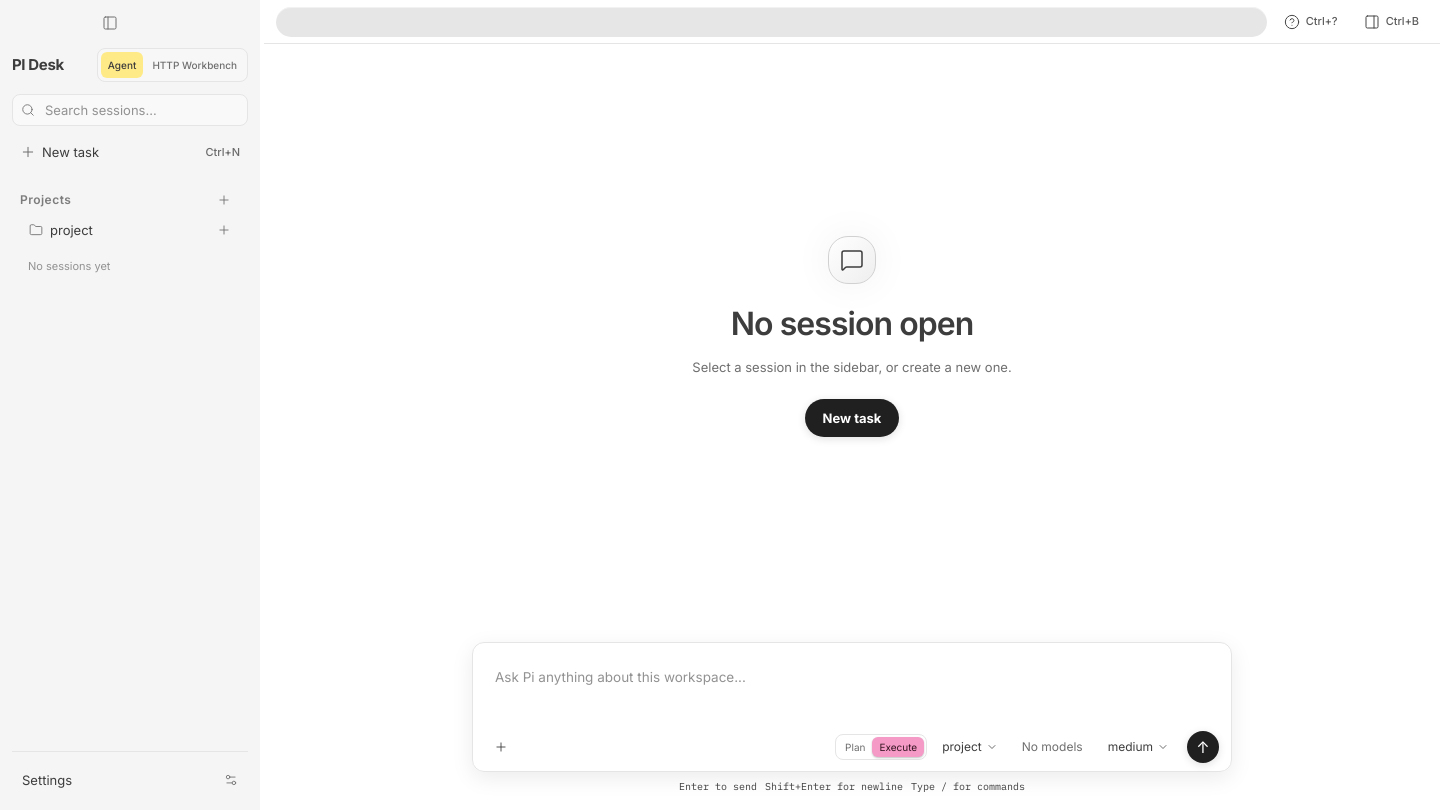
Scenario: Pi Desktop end-to-end send flow › sends a prompt when a project is active
Type "inspect the tests" into the text box named "message" at coordinates (852, 693), box 485,655 -> 1219,731
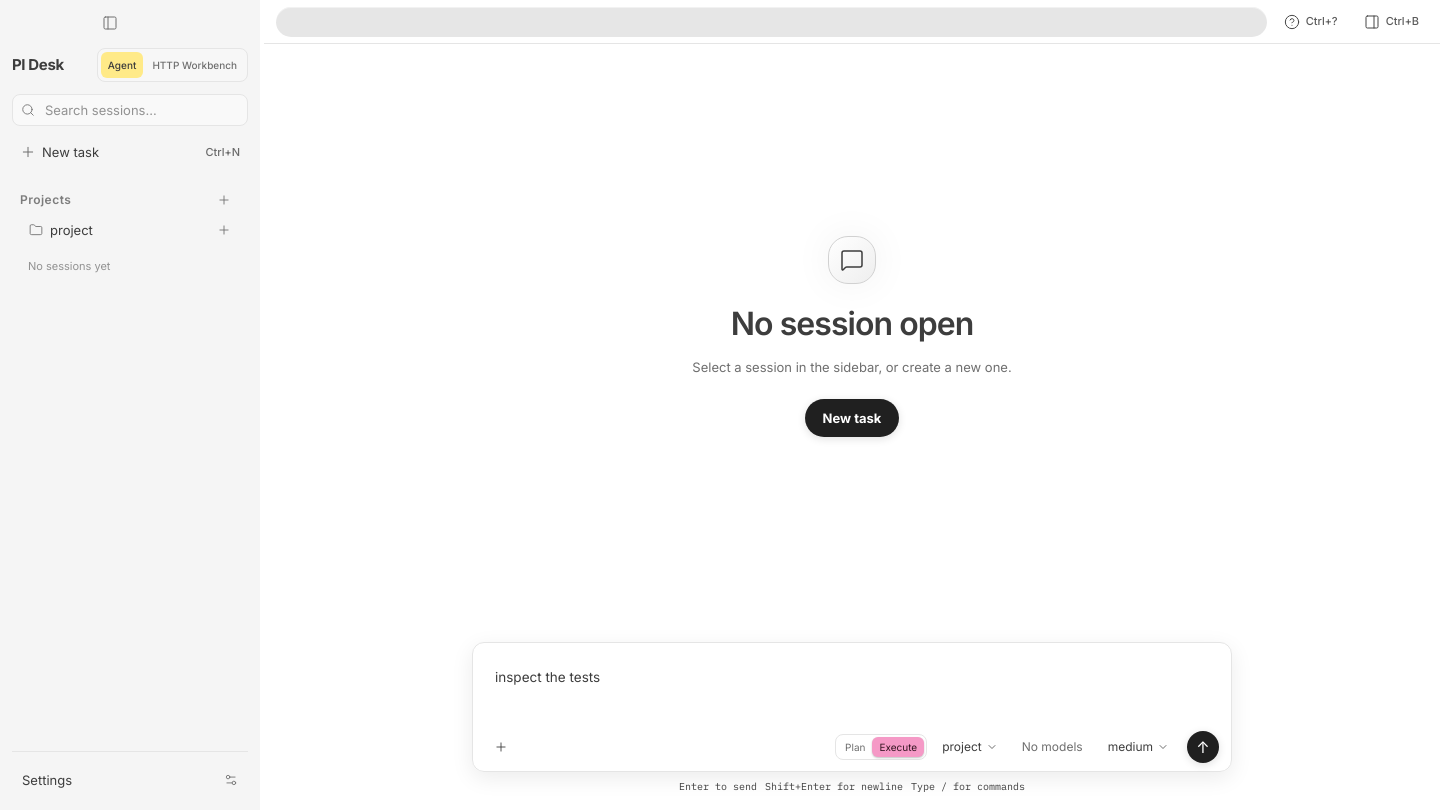
Click the button named "send" at coordinates (1203, 747), box 1187,731 -> 1219,763
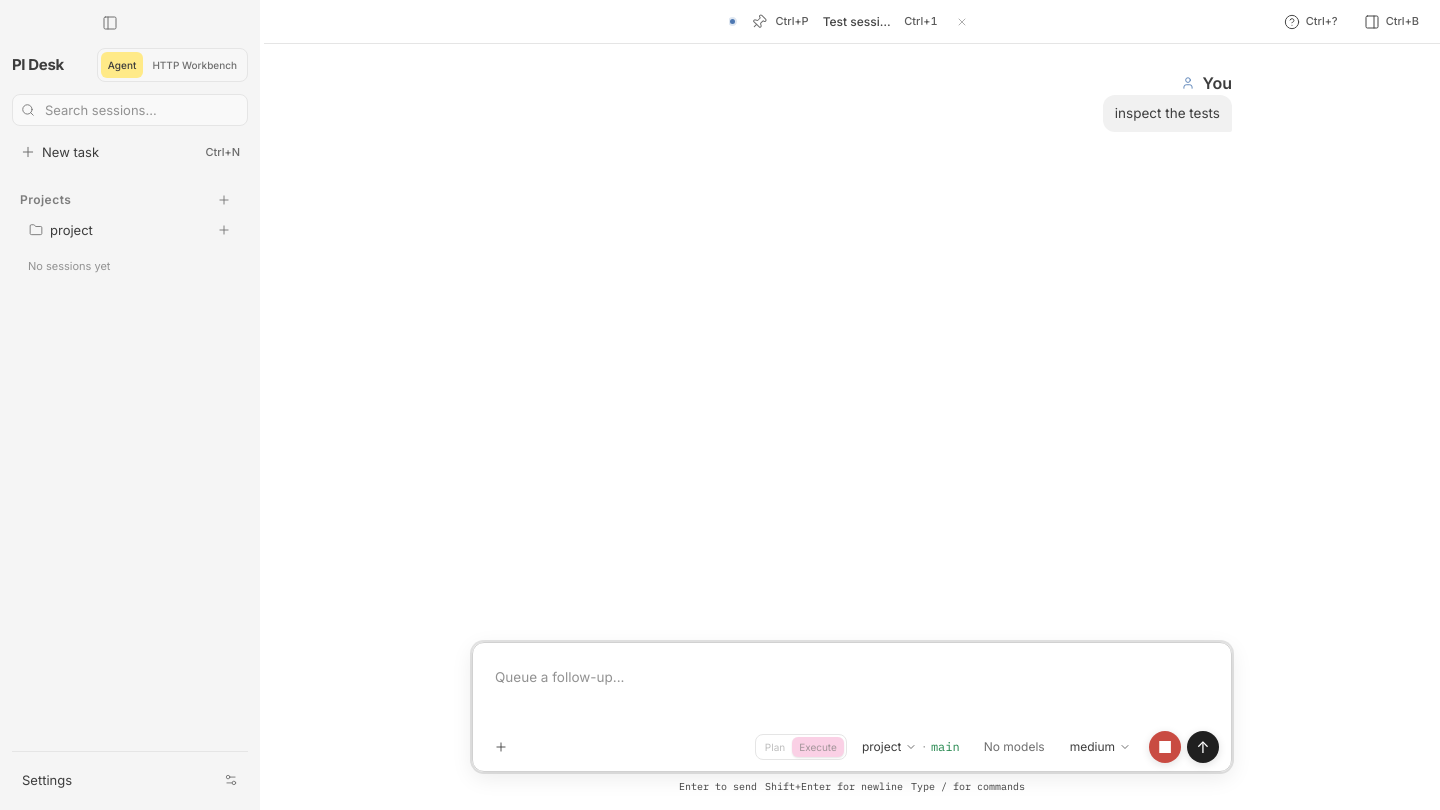
Check: the text "inspect the tests" is shown, box 1115,103 -> 1220,124
